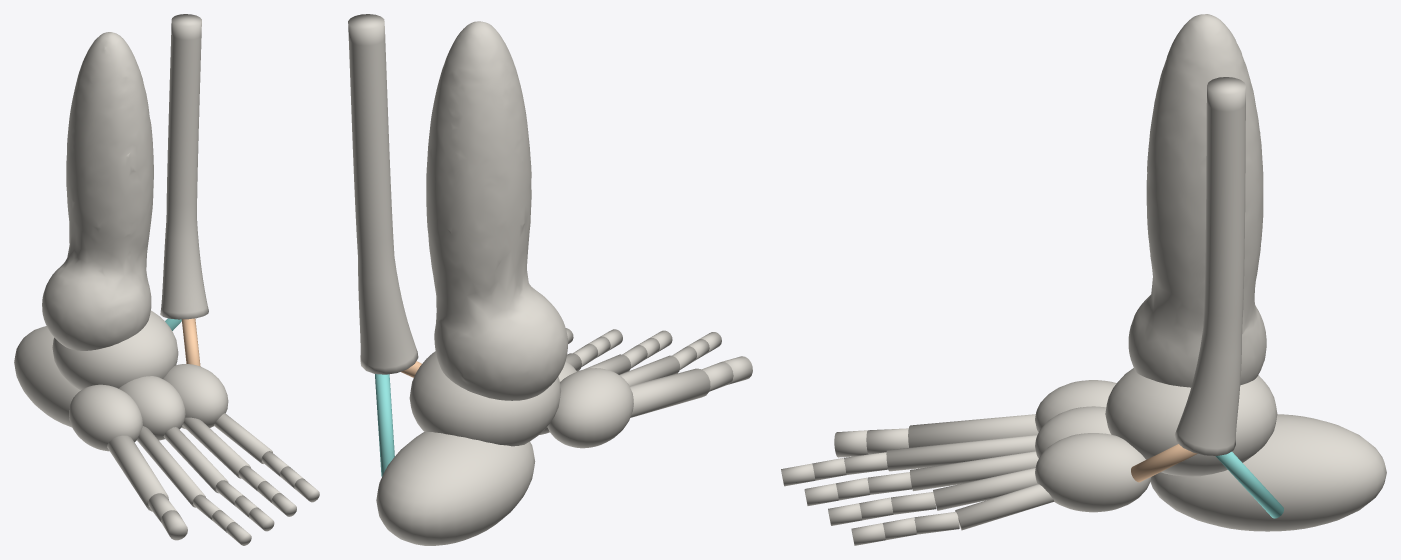
File: ankle-lateral.glb
3 views of the same model, side by side, from view 1: azimuth 30°, elevation 25°; view 2: azimuth 150°, elevation 25°; view 3: azimuth 270°, elevation 25° (orthographic). The views are drawn at different scales.
Parts seen in each view (by area): view 1: static #eee5d3, static #f2a066; view 2: static #eee5d3, static #49bdb4; view 3: static #eee5d3, static #49bdb4, static #f2a066.
Part boxes in pixels (<box>): static #eee5d3: <box>14,14,319,545</box>; static #f2a066: <box>181,318,200,366</box>; static #eee5d3: <box>348,14,752,545</box>; static #49bdb4: <box>375,374,394,476</box>; static #eee5d3: <box>781,14,1386,545</box>; static #49bdb4: <box>1215,451,1283,518</box>; static #f2a066: <box>1131,444,1197,482</box>.
Size of the model in its own units: 0.1374 by 0.2888 by 0.3098.
